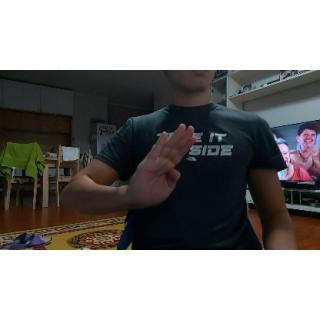KAAF: (122, 119, 198, 206)
